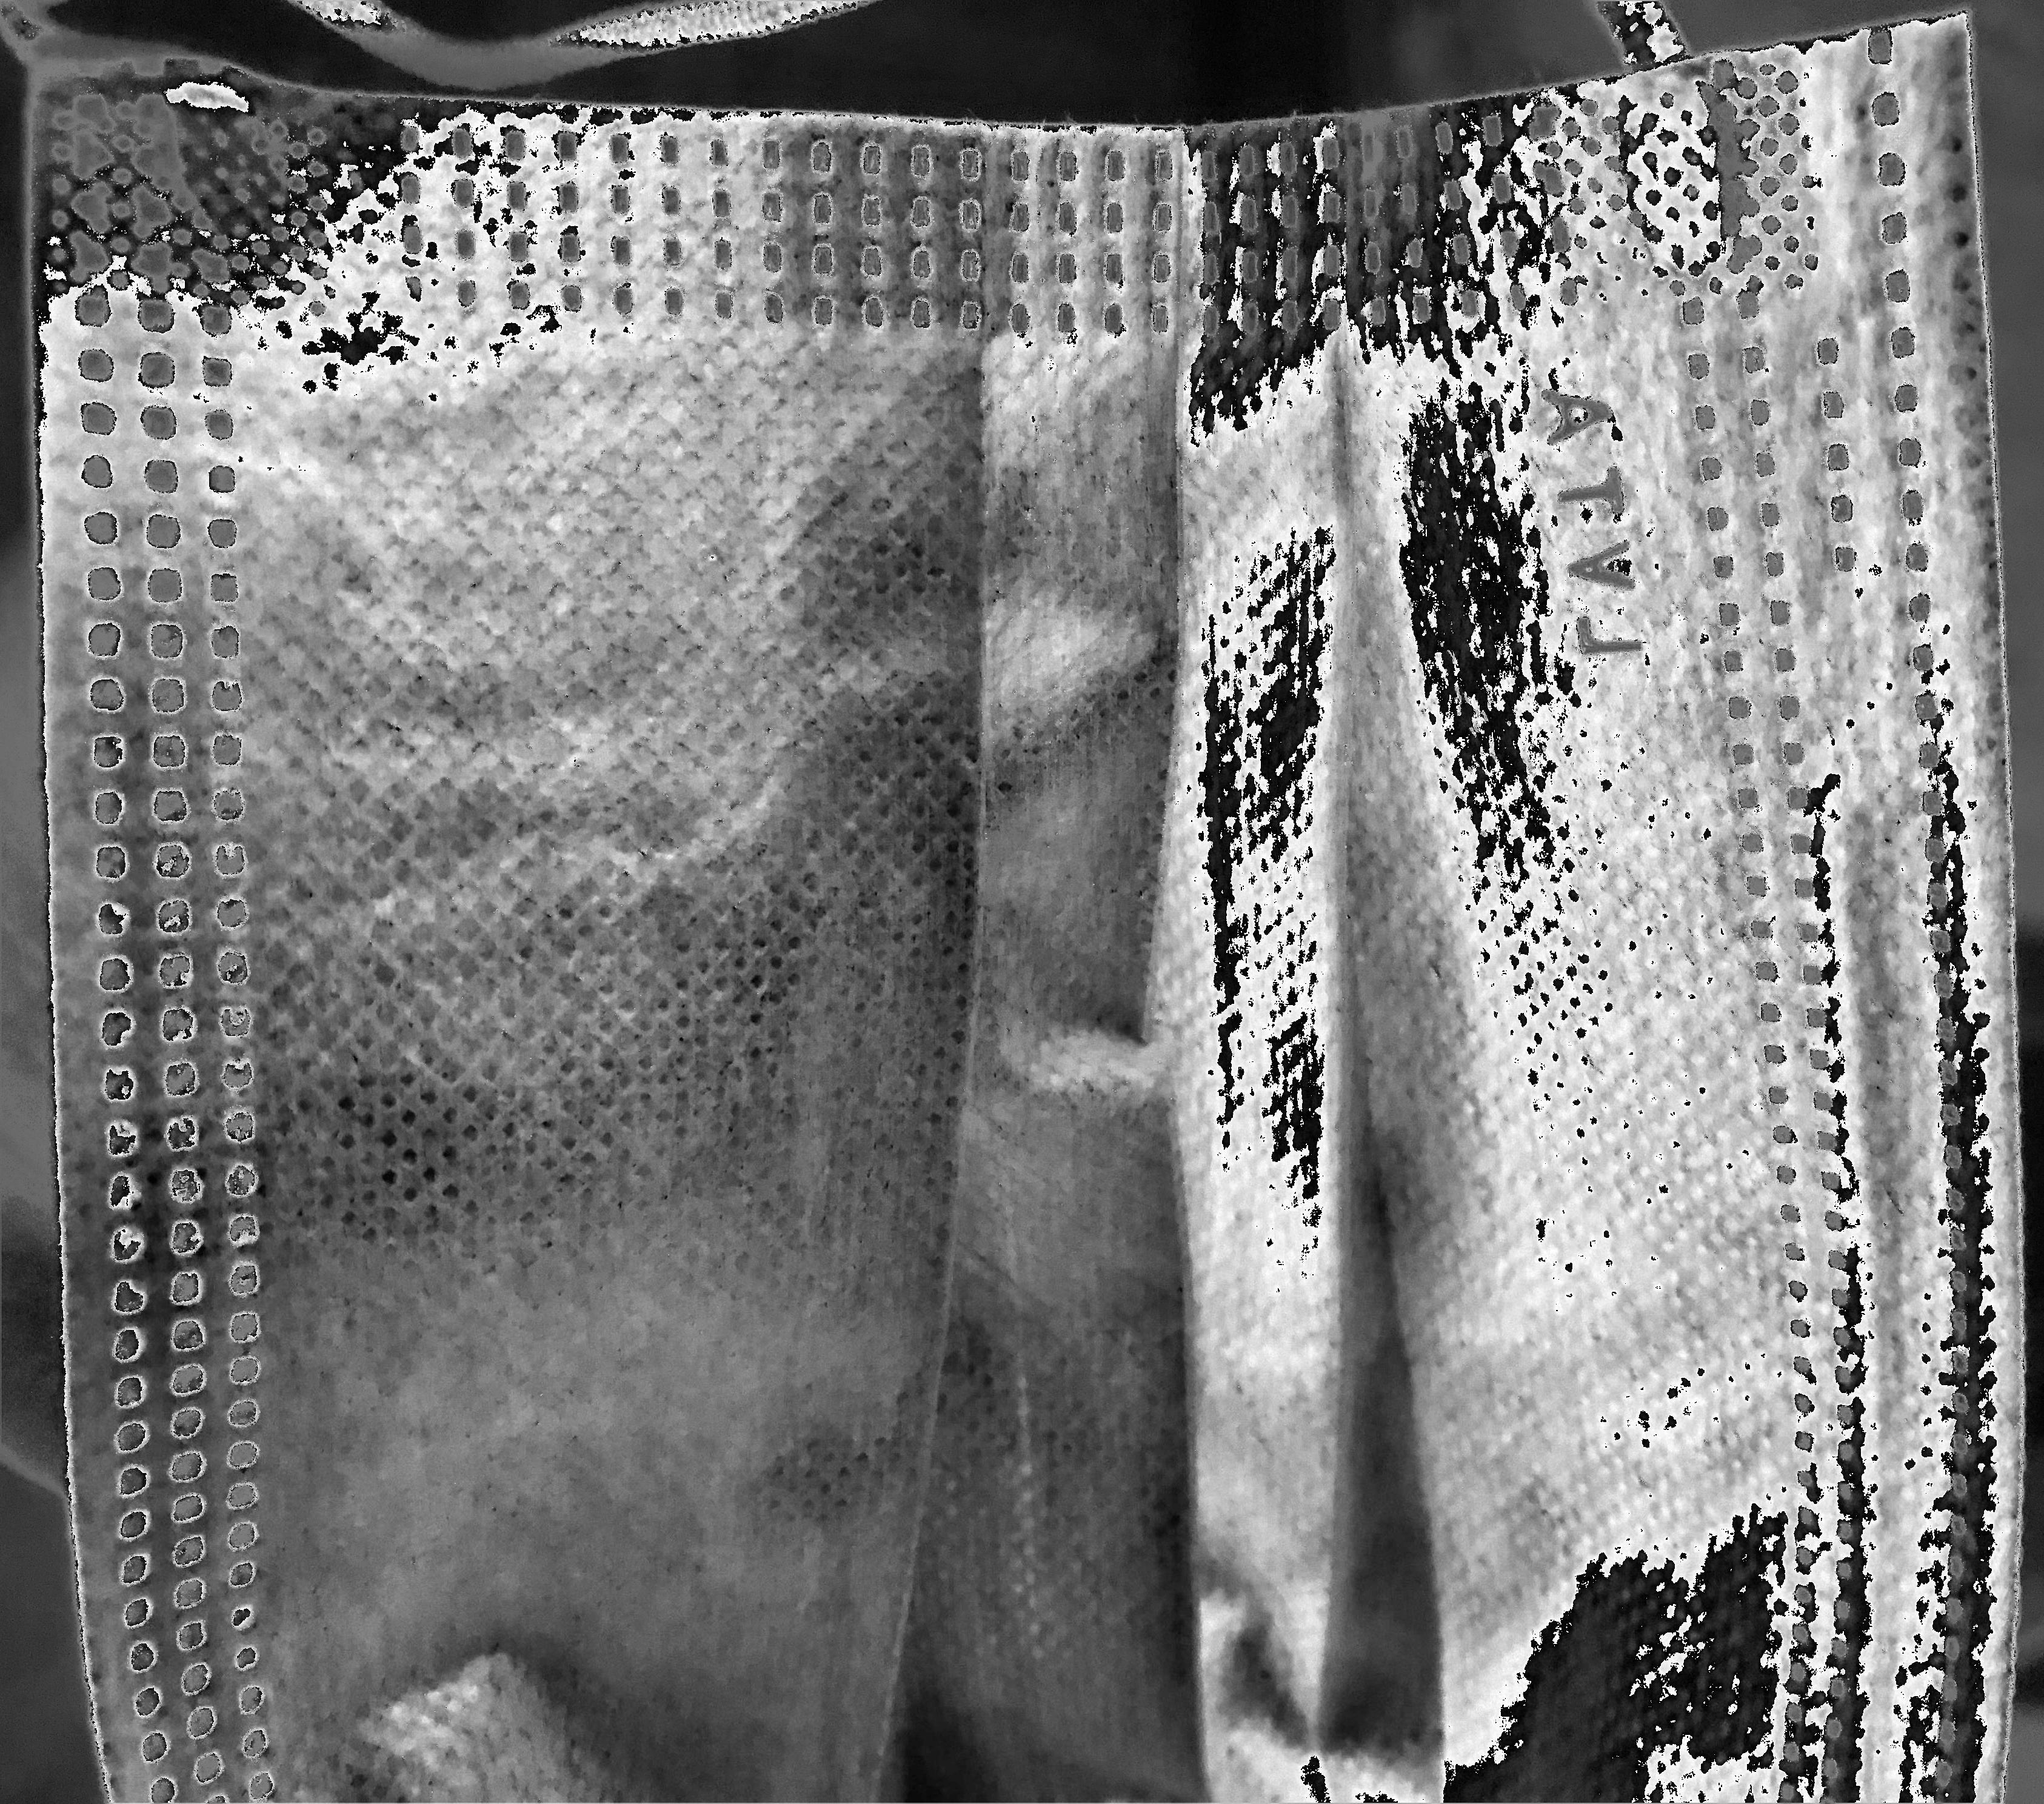High GSM: (313, 322, 1666, 1801)
